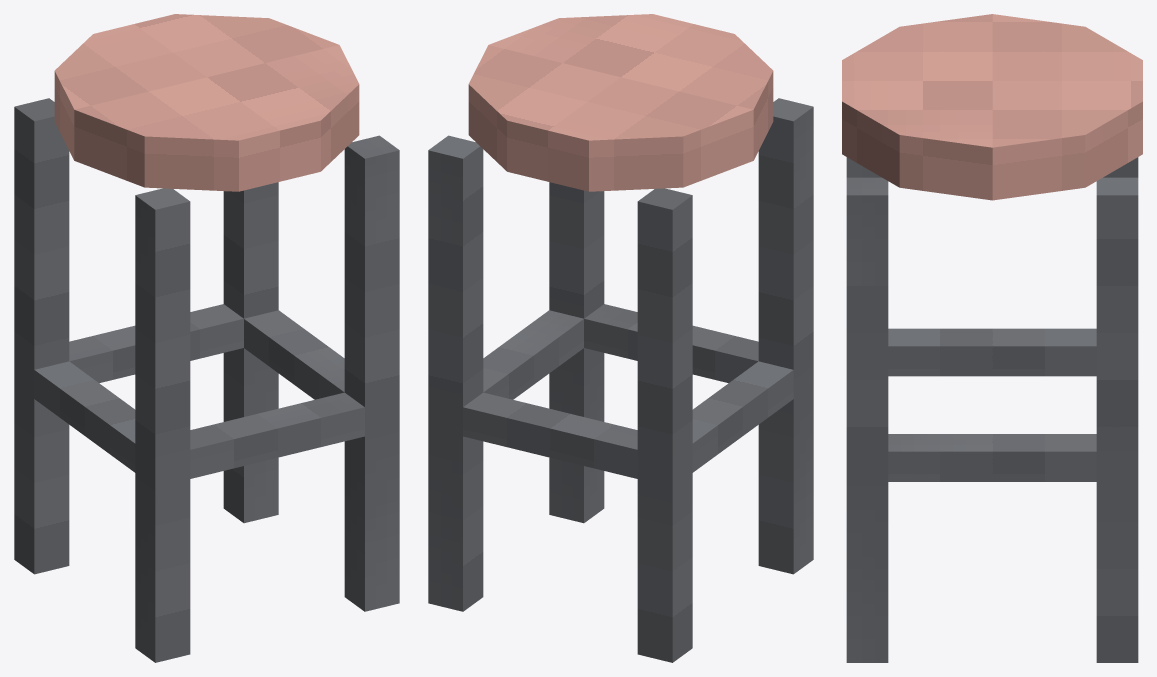
Rendered from pixel-modern-office-stool-1af32ced.glb.
3 views of the same model, side by side, from view 1: azimuth 30°, elevation 25°; view 2: azimuth 150°, elevation 25°; view 3: azimuth 270°, elevation 25° (orthographic). The views are drawn at different scales.
Visible parts, largest first — view 1: stool; view 2: stool; view 3: stool.
Part boxes in pixels (x1,y1,x2,y2): stool: (14,14,399,662); stool: (428,14,813,662); stool: (842,14,1142,662).
Size of the model in its own units: 0.38 by 0.69 by 0.3614.
2 materials, 2 textured.
